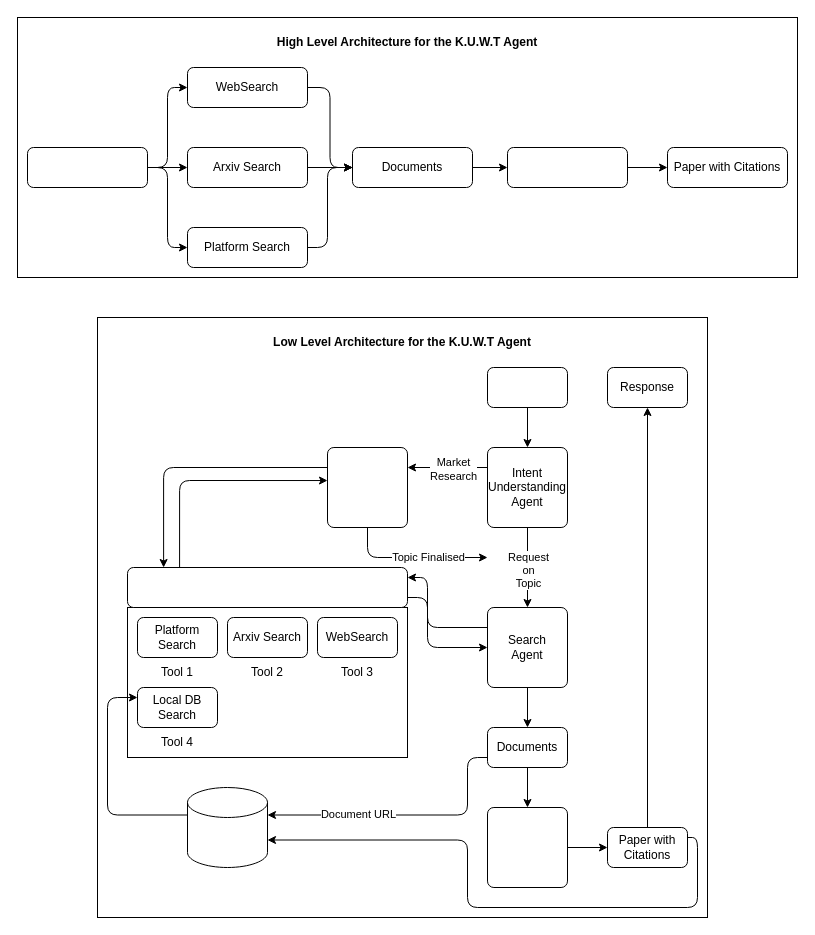
This 815x935 diagram has some shape labels left out. The shapes that lost their labels are listed below. From the top down, each one's centre as x and y in pixels, then its label:
point 87,167: Trigger / User Query
point 567,167: Summarization
point 527,387: User Query
point 367,487: Market Understanding Agent
point 267,587: ToolKit
point 227,827: Local Storage
point 527,847: Researcher Agent
